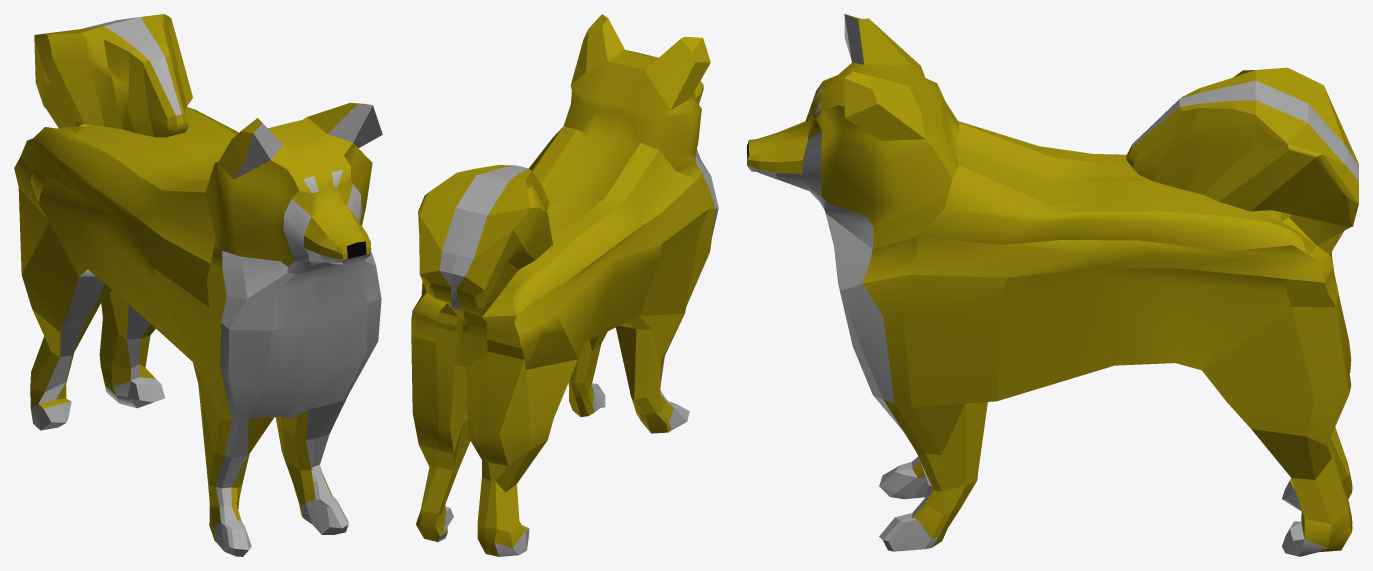
Rendered from Low_poly_dog_Extra.fbx.
The picture shows the model from 3 angles, left to right: view 1: azimuth 30°, elevation 25°; view 2: azimuth 150°, elevation 25°; view 3: azimuth 270°, elevation 25°; orthographic projection. The views are drawn at different scales.
Visible parts, largest first — view 1: pCube11; view 2: pCube11; view 3: pCube11.
Part boxes in pixels (x1,y1,x2,y2): pCube11: (14,14,382,556); pCube11: (411,14,718,556); pCube11: (747,14,1358,556).
Size of the model in its own units: 23.83 by 62.62 by 70.62.
